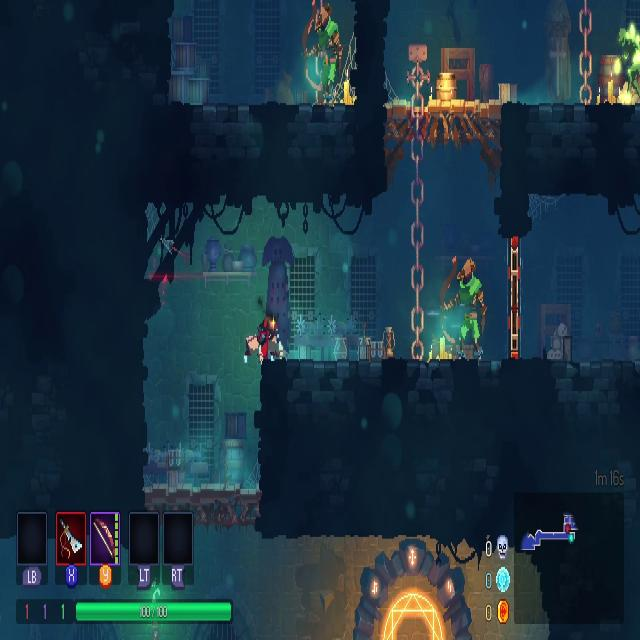agents: (258, 316, 285, 363)
door_regular: (507, 236, 523, 362)
enemy_archer: (450, 257, 488, 358), (308, 0, 344, 103)
enemy_green_puncher: (617, 22, 640, 102)
wood_floor: (386, 94, 504, 150), (142, 482, 262, 528)
